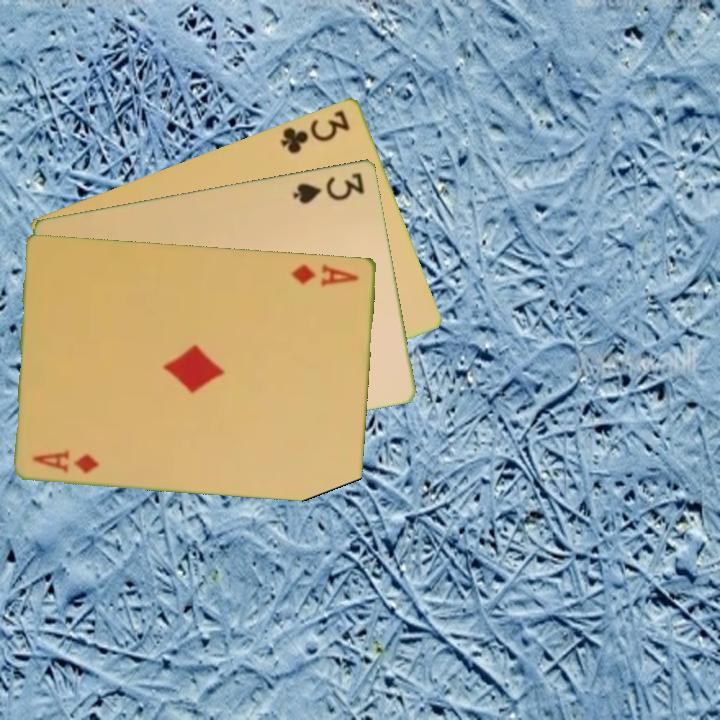3c: (276, 106, 353, 156)
3s: (289, 168, 368, 207)
Ad: (30, 445, 102, 476), (288, 260, 362, 289)
